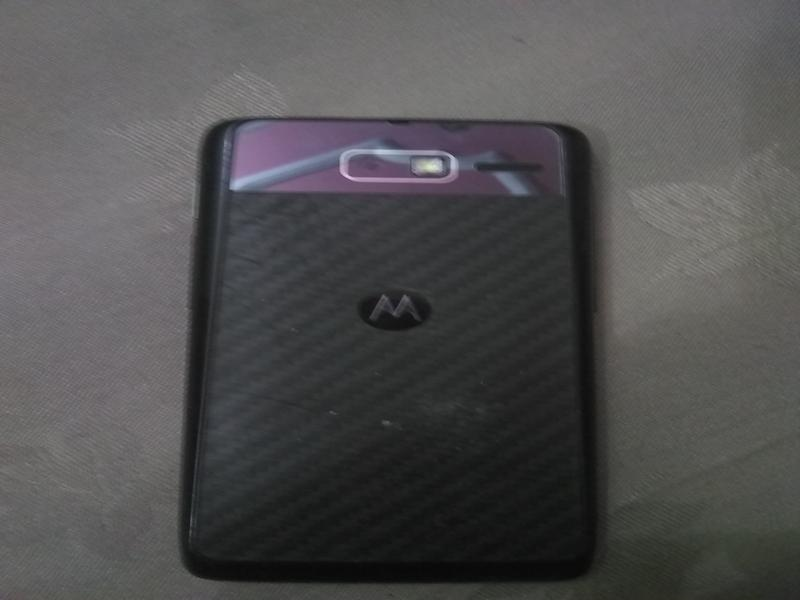moto: (172, 114, 599, 584)
